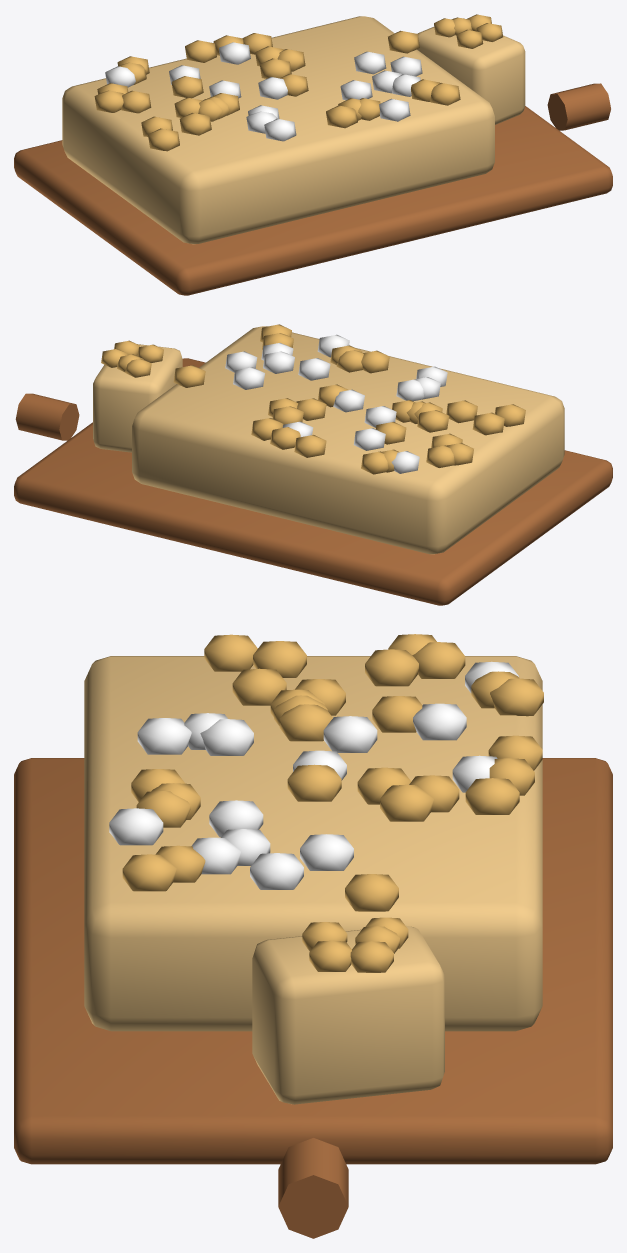
The model's file is cuca.glb.
3 views of the same model, one above another, from view 1: azimuth 30°, elevation 25°; view 2: azimuth 150°, elevation 25°; view 3: azimuth 270°, elevation 25° (orthographic). The views are drawn at different scales.
Parts seen in each view (by area): view 1: Cuca; view 2: Cuca; view 3: Cuca.
Part boxes in pixels (left/top/right/bottom): Cuca: left=14, top=14, right=612, bottom=295; Cuca: left=14, top=324, right=612, bottom=605; Cuca: left=14, top=634, right=612, bottom=1238.
Size of the model in its own units: 0.58 by 0.132 by 0.34.
